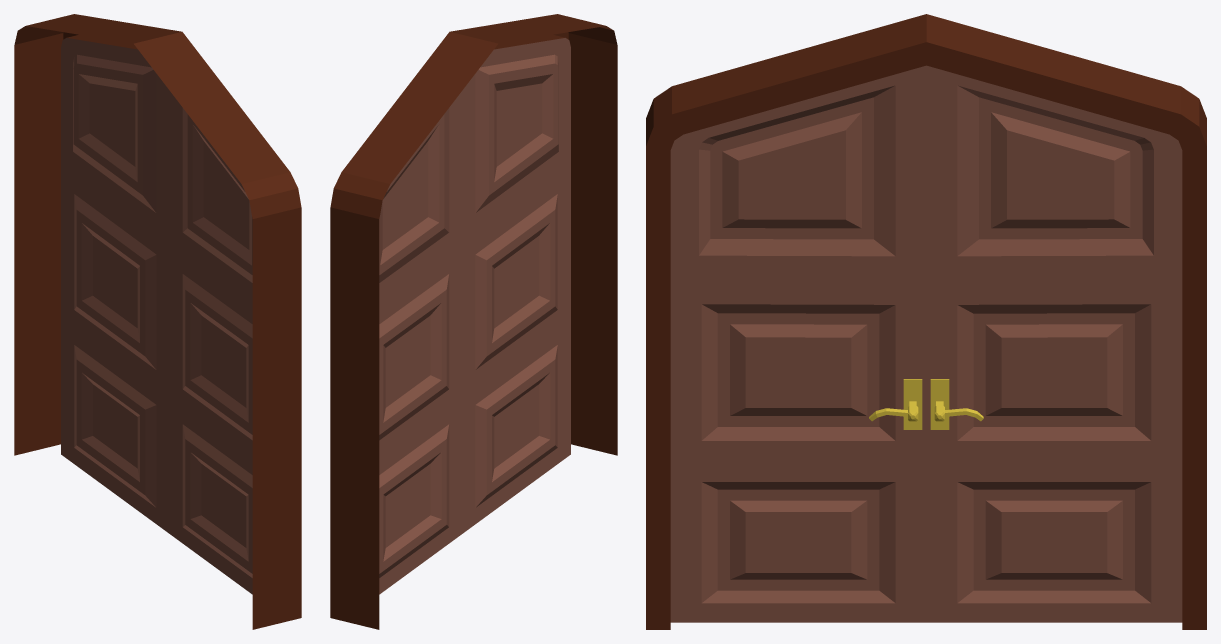
Rendered from Einstein_puerta_doble_hoja_01.fbx.
3 renders of one model, left to right at view 1: azimuth 30°, elevation 25°; view 2: azimuth 150°, elevation 25°; view 3: azimuth 270°, elevation 25°, orthographic. The views are drawn at different scales.
Visible parts, largest first — view 1: Cubo; view 2: Cubo; view 3: Cubo.
Boxes of the visible parts, x1,y1,x2,y2 form: Cubo: (14,14,301,629); Cubo: (330,14,617,629); Cubo: (646,14,1206,629).
Size of the model in its own units: 28.84 by 231 by 200.
